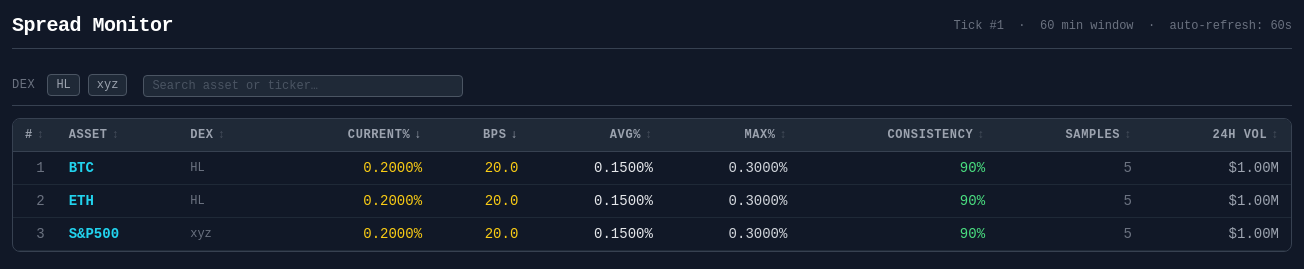
SpreadMonitor › filter bar integration › filters rows by DEX when a DEX toggle is clicked
Click the button "xyz": (108, 85) [88,74,127,96]
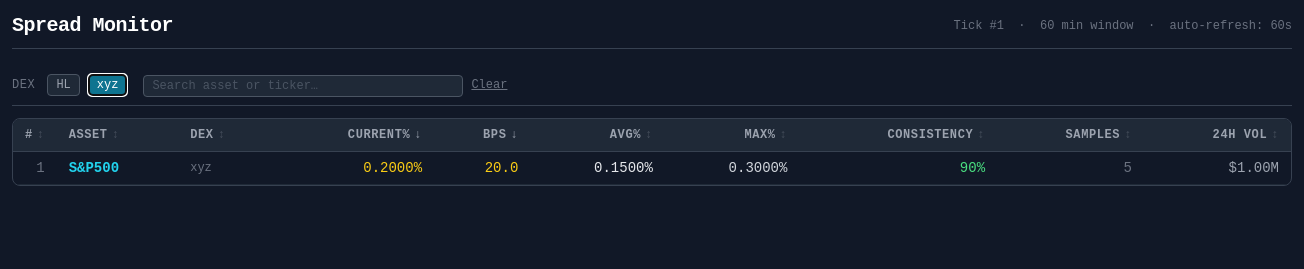
Check: the text "S&P500" is shown, box [57,152,178,184]
Check: the text "BTC" is gone
Check: the text "ETH" is gone
